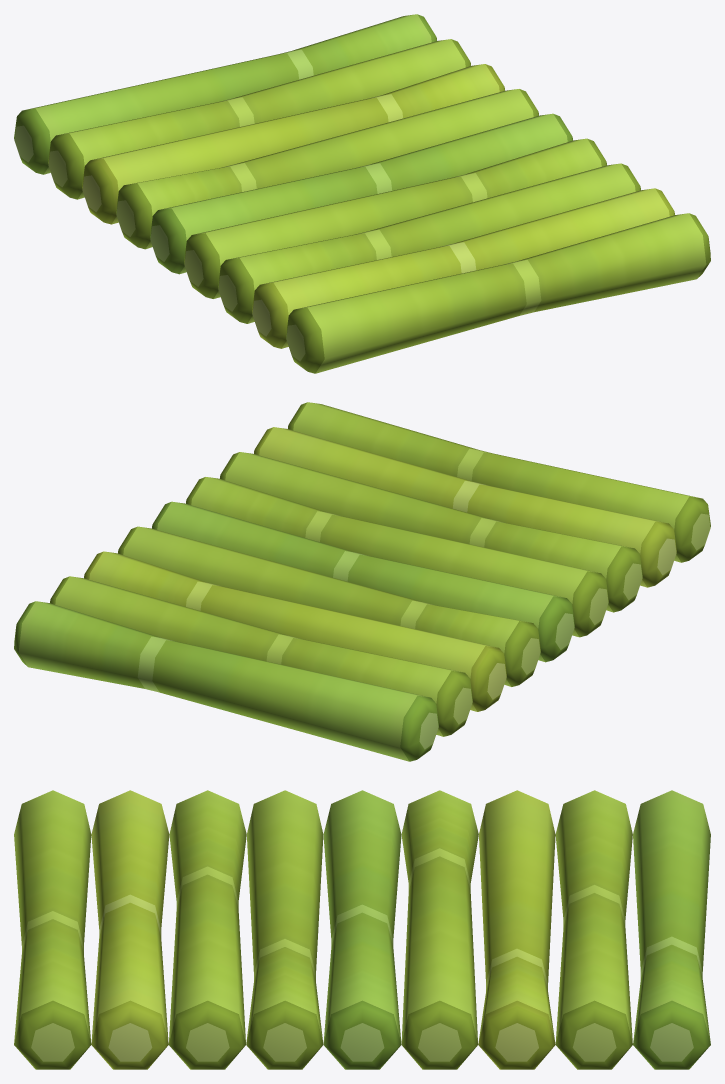
File: Bamboo_Platform_01.glb
3 renders of one model, top to bottom at view 1: azimuth 30°, elevation 25°; view 2: azimuth 150°, elevation 25°; view 3: azimuth 270°, elevation 25°, orthographic. The views are drawn at different scales.
Parts seen in each view (by area): view 1: Bamboo_Platform_01; view 2: Bamboo_Platform_01; view 3: Bamboo_Platform_01.
Part boxes in pixels (x1,y1,x2,y2): Bamboo_Platform_01: [14, 14, 710, 373]; Bamboo_Platform_01: [14, 402, 710, 761]; Bamboo_Platform_01: [14, 790, 710, 1069].
Bounding box in the file's own units: 2.48 × 0.3634 × 3.25.
1 material, 1 textured.
